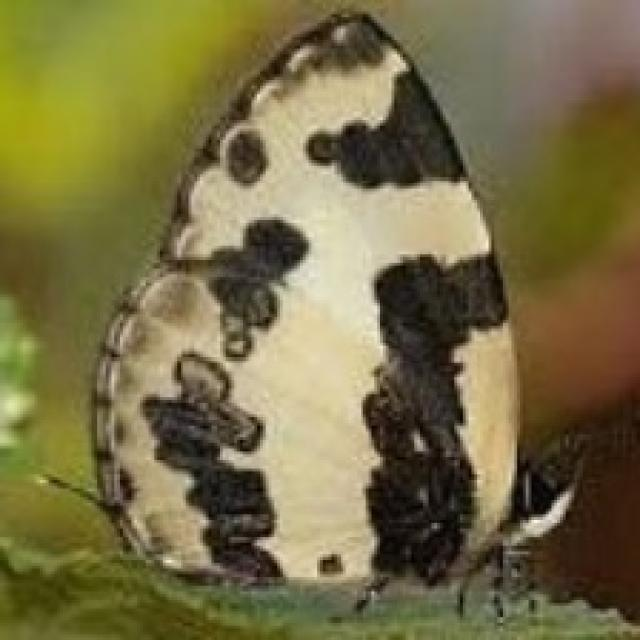butterfly: (40, 3, 534, 614)
